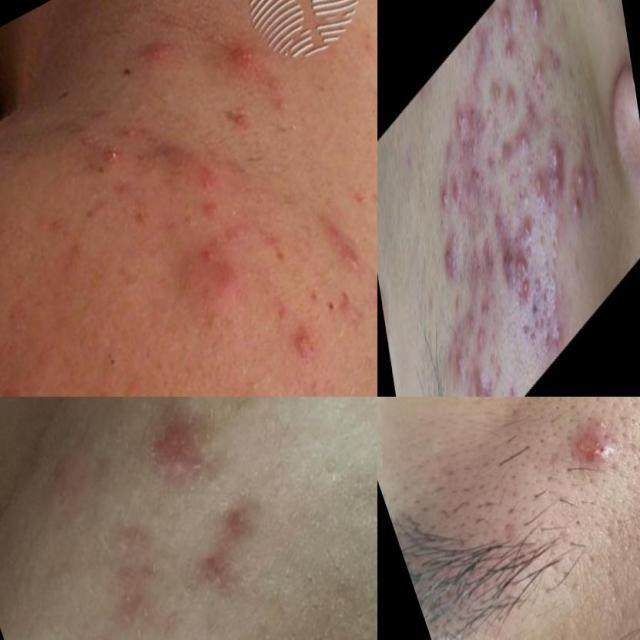Pimples: (163, 483, 276, 617), (547, 397, 640, 502), (168, 246, 252, 330), (136, 398, 210, 491), (207, 0, 277, 80), (120, 2, 190, 72), (274, 302, 328, 380), (86, 320, 134, 384), (84, 118, 130, 184), (459, 118, 491, 204), (540, 122, 568, 214), (498, 222, 526, 292), (439, 215, 464, 290), (546, 303, 568, 355), (471, 310, 491, 360), (520, 0, 544, 40), (472, 360, 496, 397), (451, 84, 466, 140), (528, 52, 546, 97), (568, 182, 586, 225), (572, 152, 588, 196), (452, 344, 468, 384), (532, 162, 546, 206), (520, 210, 536, 248), (518, 176, 532, 218), (496, 0, 512, 36), (450, 172, 464, 212), (502, 37, 515, 78), (436, 178, 450, 216), (519, 269, 532, 306), (491, 71, 503, 108), (517, 124, 530, 158)
